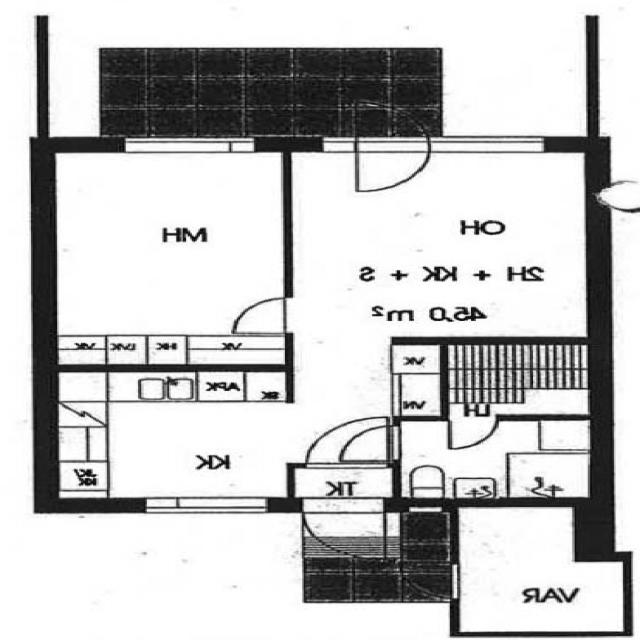door: (306, 498, 386, 562), (309, 416, 388, 468), (357, 137, 426, 194), (357, 95, 426, 152), (390, 563, 457, 598), (335, 426, 400, 460), (229, 300, 293, 332), (452, 415, 497, 448)
